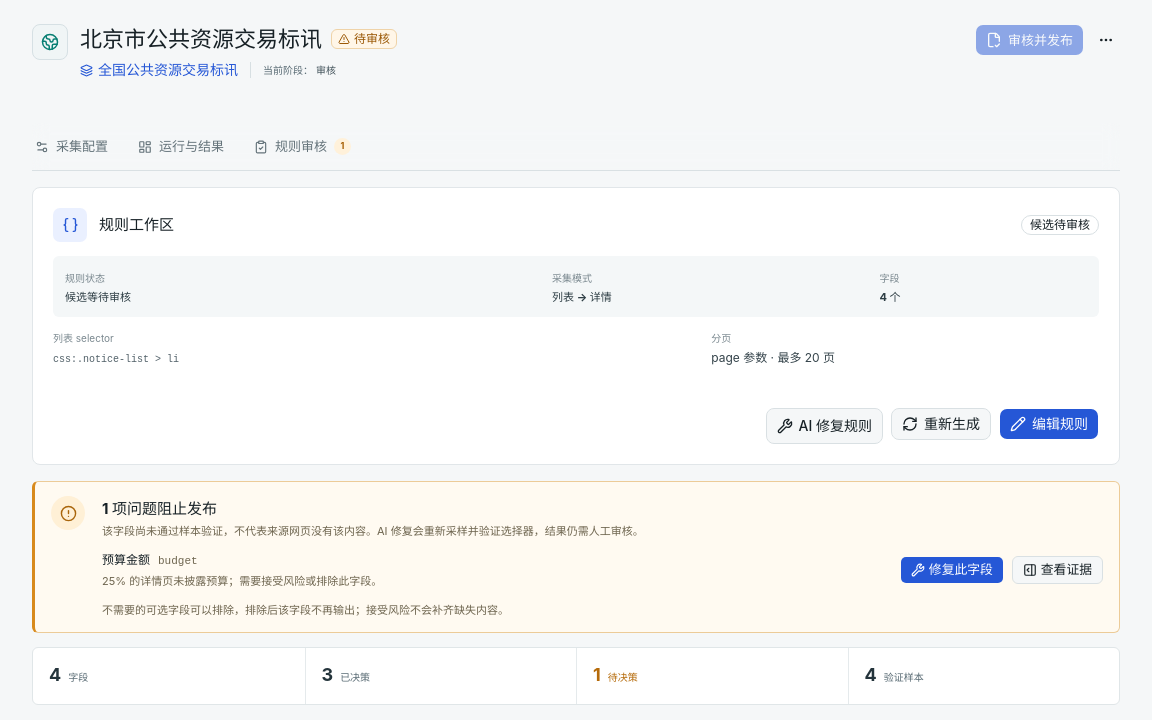
Test: Collector evidence bundle and AI repair › retains targeted repair guidance after a failed request
Step 1. Click the button with aria-label "让 AI 修复字段 budget" → (952, 570), box [900,556,1004,584]
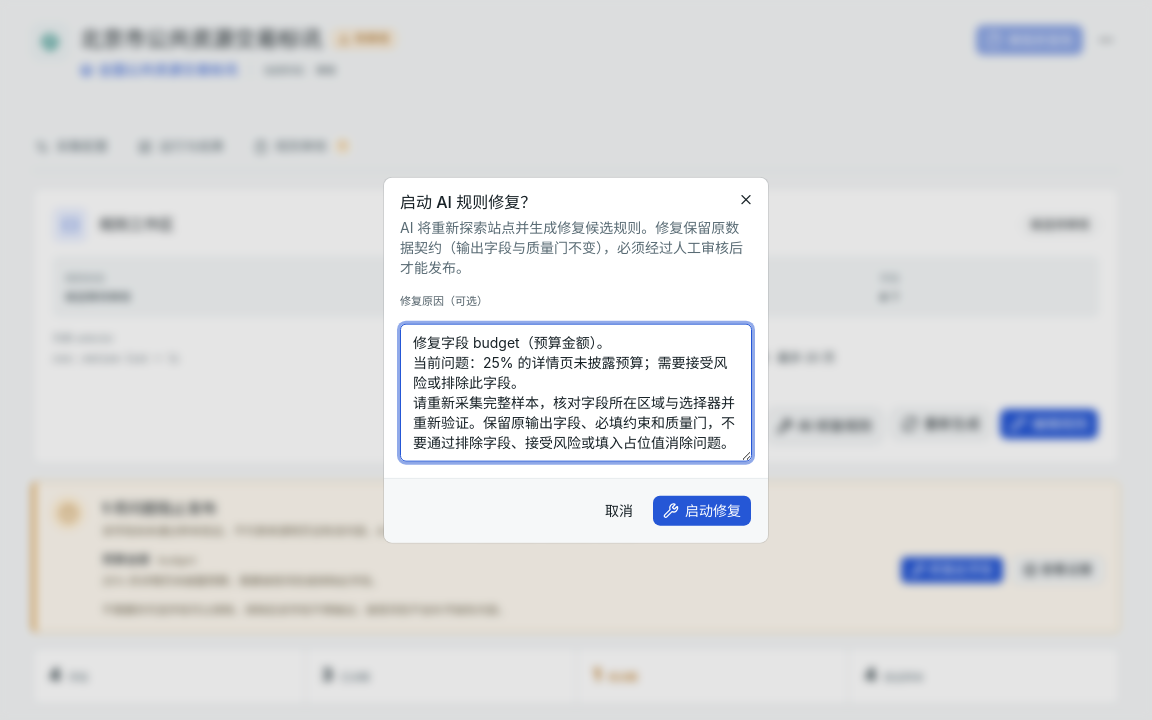
Step 2. Clear the text box labelled "修复原因（可选）" → (576, 392), box [400,323,752,461]
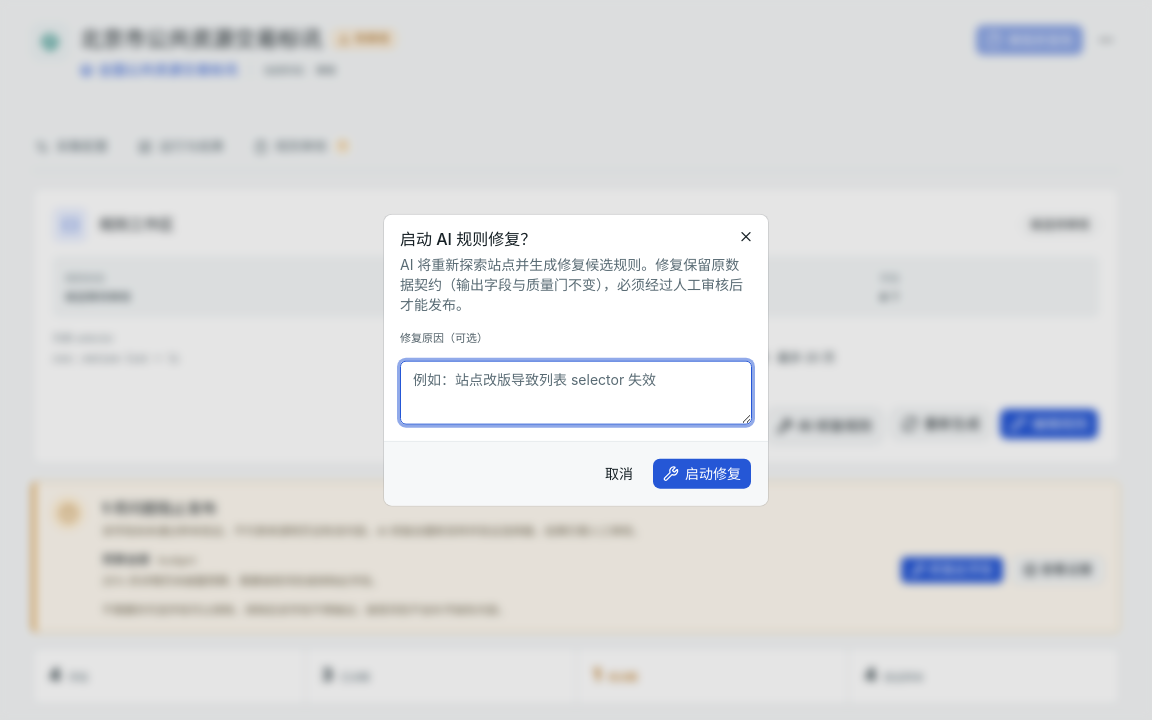
Step 3. Type "budget：保留原字段，检查金额区域。" into the text box labelled "修复原因（可选）" → (576, 392), box [400,360,752,424]
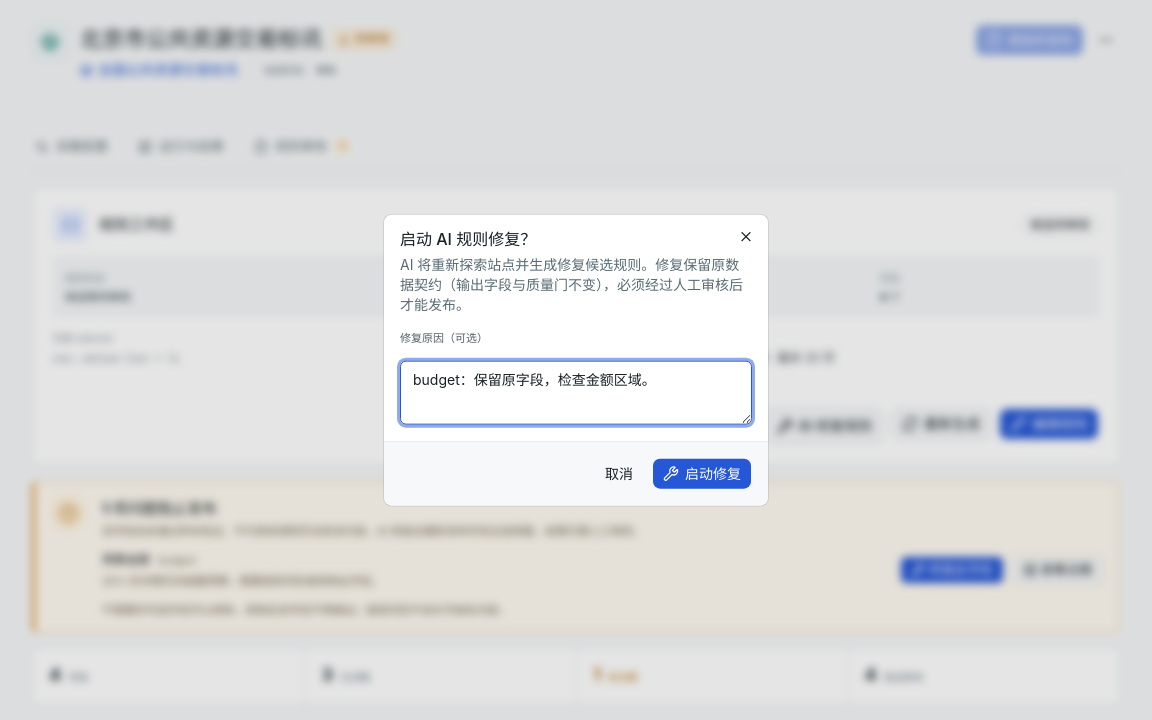
Step 4. Click the button "启动修复" → (702, 473), box [652,457,752,489]
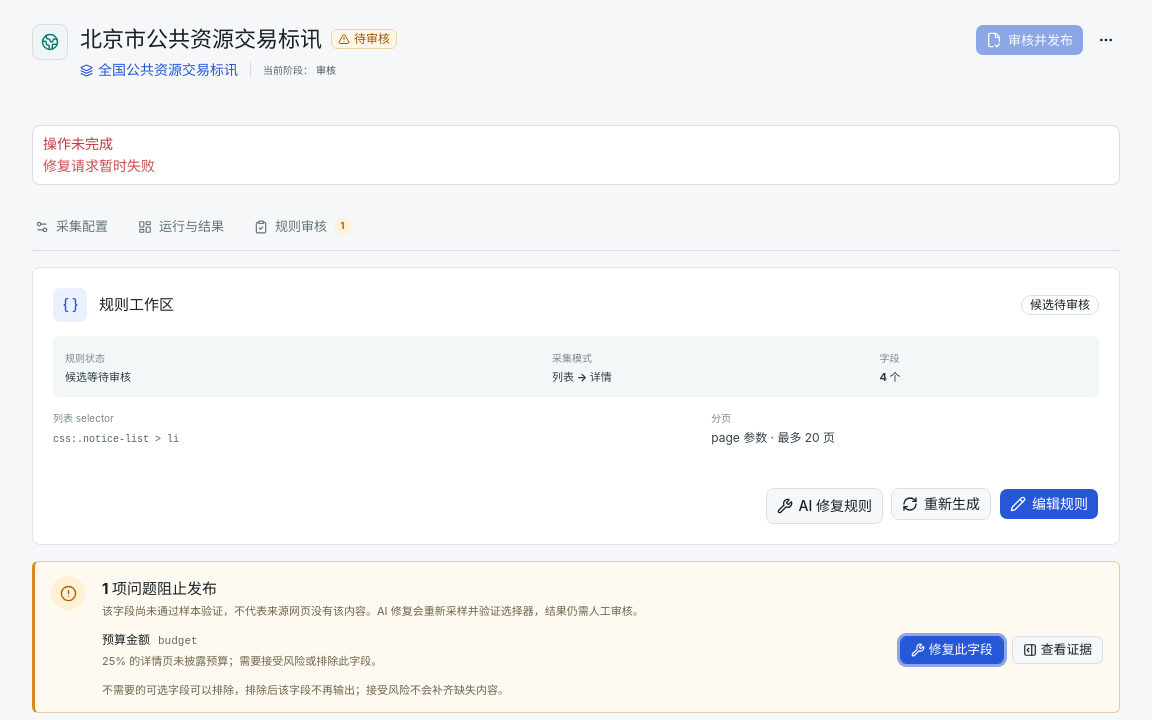
Expected: the text "修复请求暂时失败" is shown, [43,157,155,174]
Step 5. Click the button with aria-label "让 AI 修复字段 budget" → (952, 650), box [900,636,1004,664]
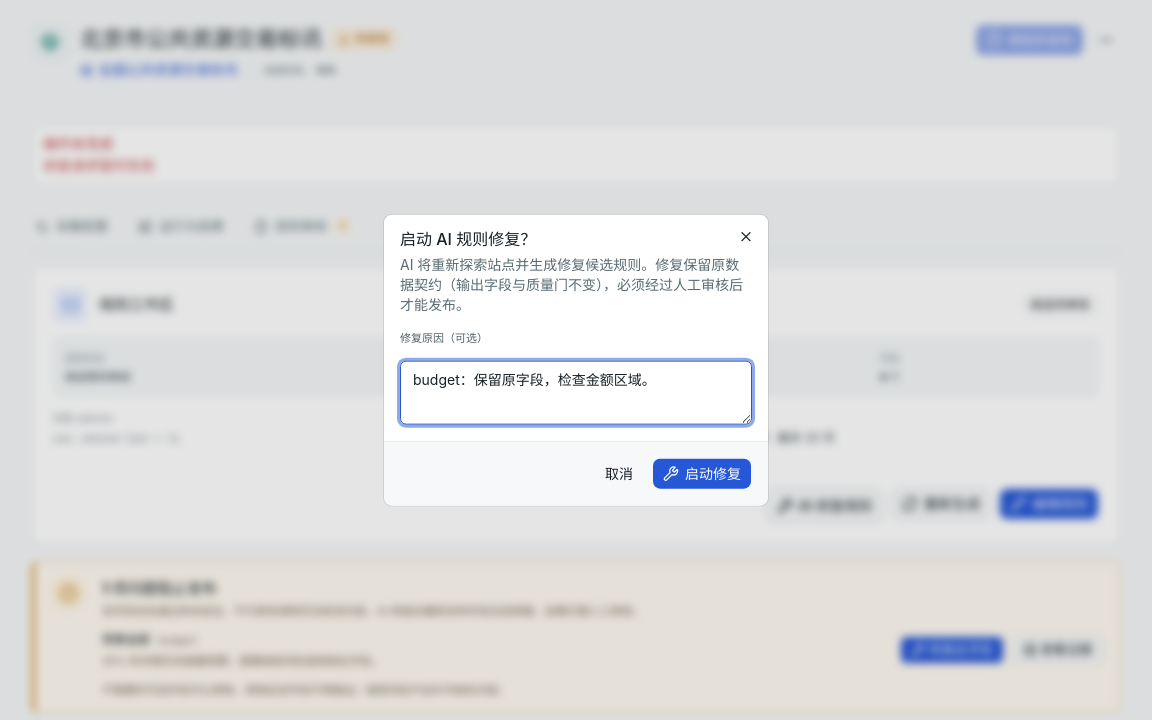
Expected: the text box labelled "修复原因（可选）" holds "budget：保留原字段，检查金额区域。", [400,360,752,424]
